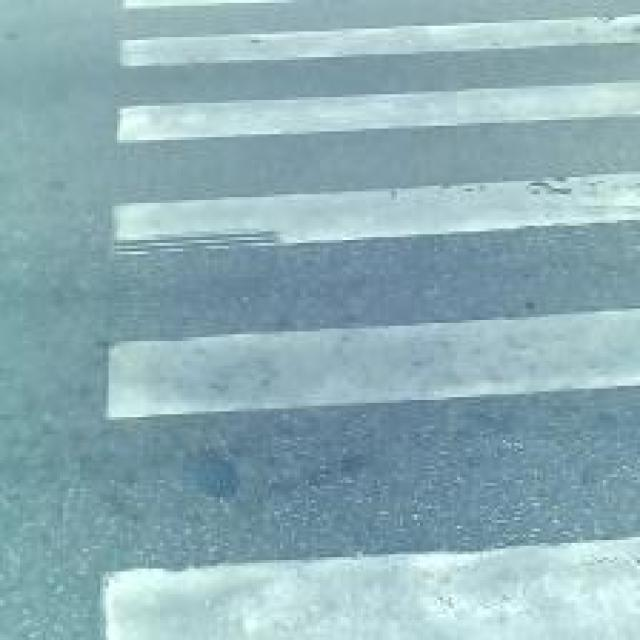crosswalk: (53, 0, 638, 640)
